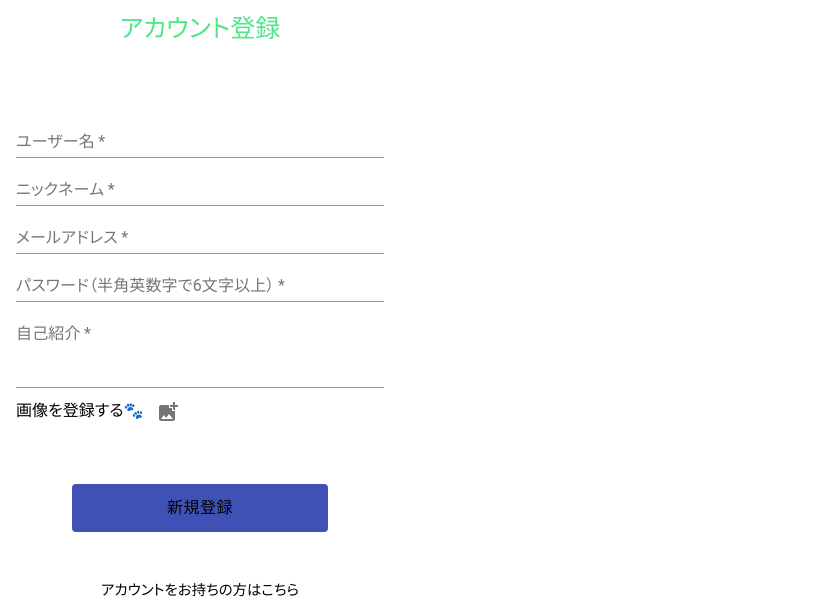
Test case: Rendering SignUp › 名前未入力、「アカウント登録」ボタン押すとエラー発生する
This screenshot has width=839, height=614.
Type "test@email.com" into the field with placeholder "メールアドレス".
click(200, 238); type("test@email.com")  # box [16,222,384,254]
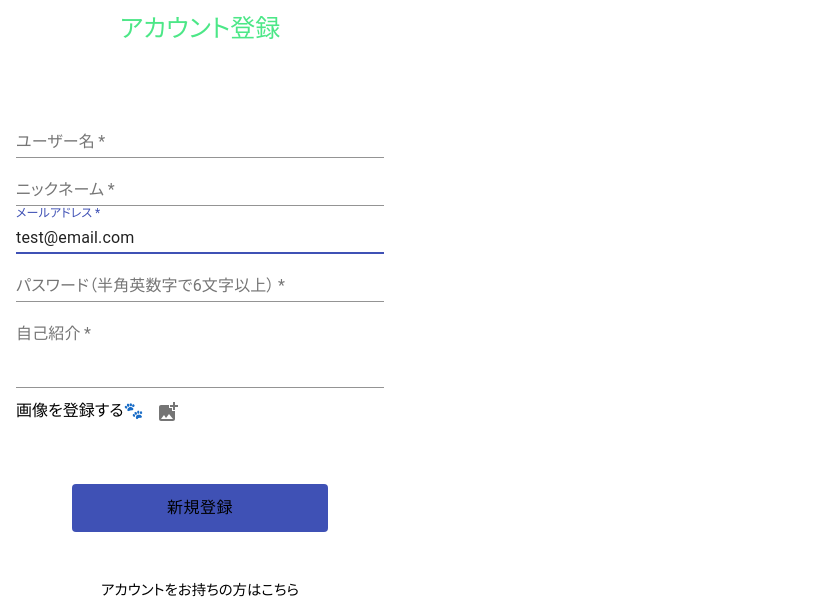
Type "12345678" into the password field with placeholder "パスワード（半角英数字で6文字以上）".
click(200, 286); type("12345678")  # box [16,270,384,302]
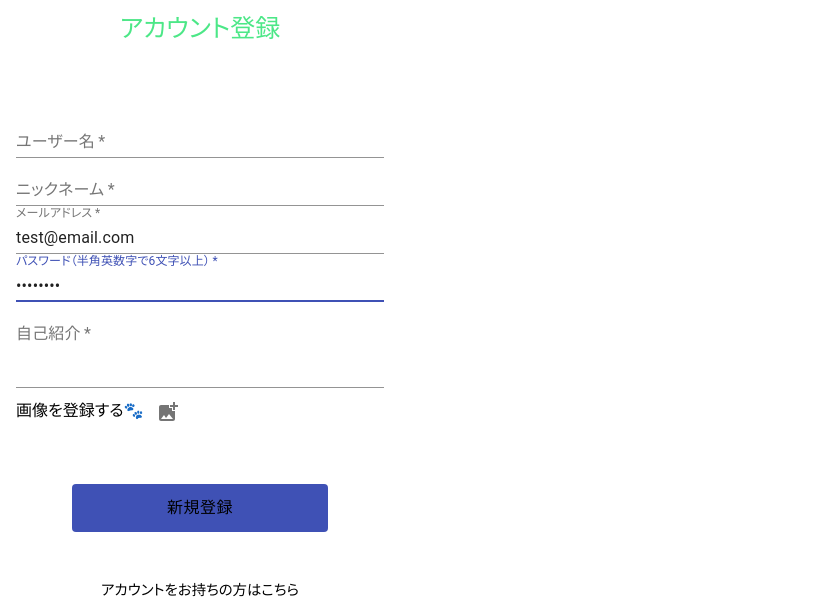
Click the button "新規登録".
click(200, 508)  # box [72,484,328,532]
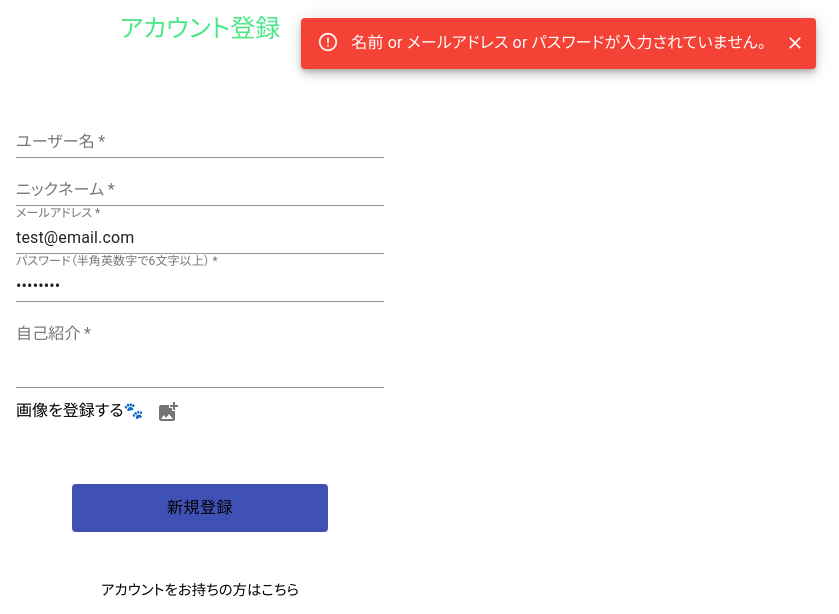
Now the text "名前 or メールアドレス or パスワードが入力されていません。" is shown, box [351,33,766,52]
